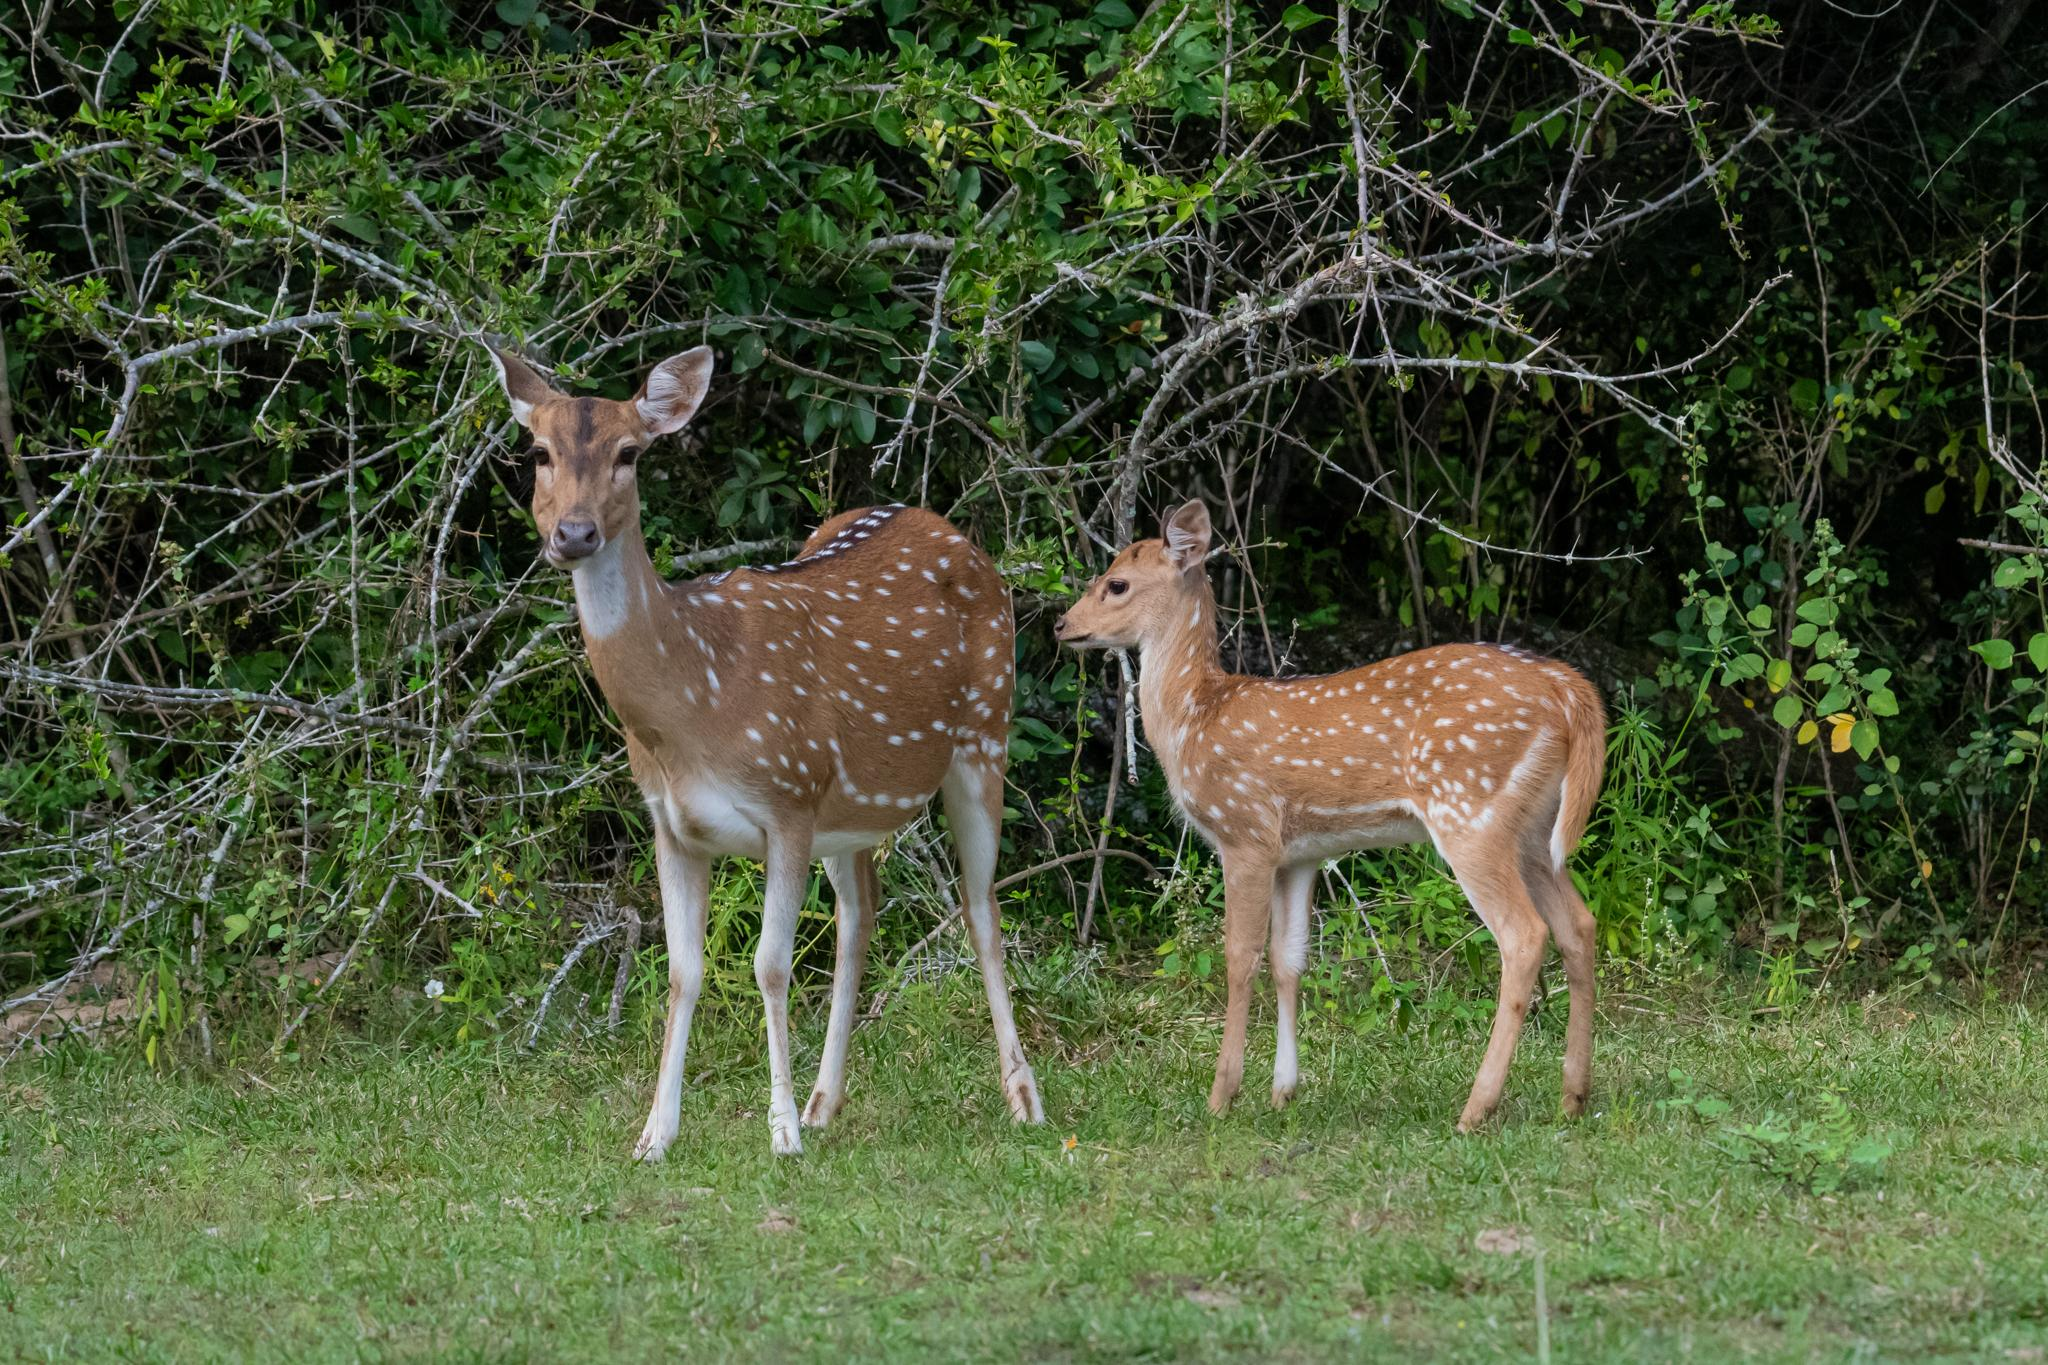Deer: (495, 347, 1042, 1159), (1057, 500, 1606, 1130)
